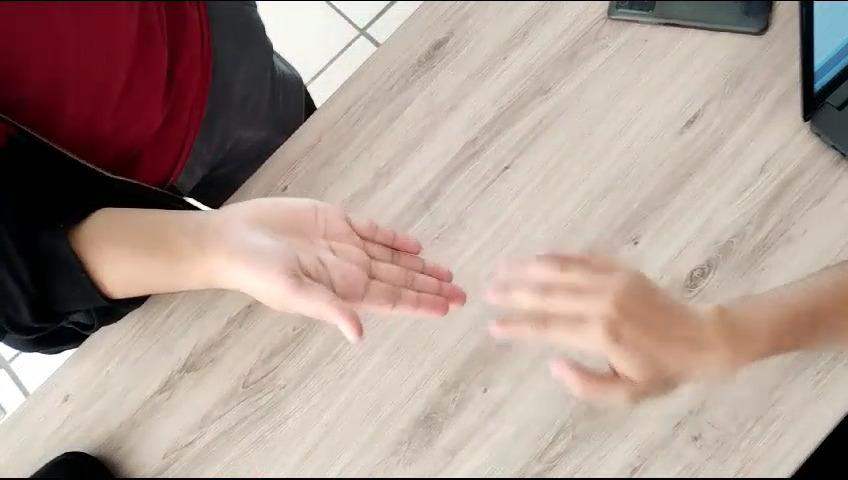Paper: (479, 224, 725, 418), (229, 173, 472, 350)
